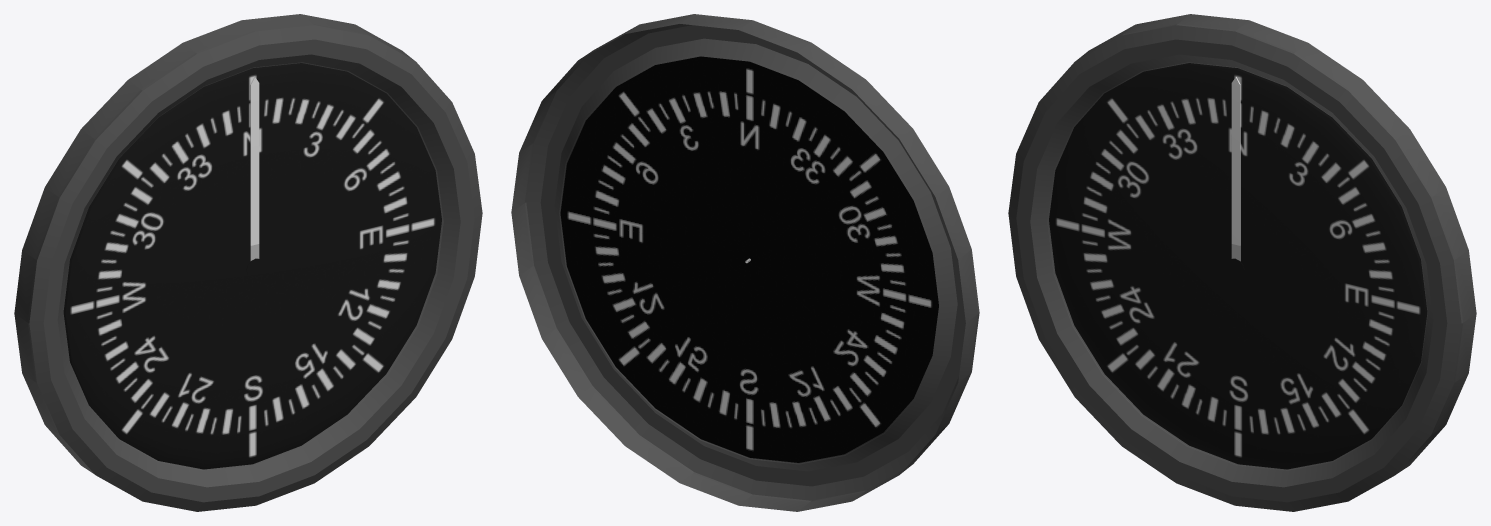
File: Gauge_Compass.obj
3 views of the same model, side by side, from view 1: azimuth 30°, elevation 25°; view 2: azimuth 150°, elevation 25°; view 3: azimuth 330°, elevation 25° (orthographic).
Visible parts, largest first — view 1: Face, Rim, NeedleMain; view 2: Face, Rim; view 3: Face, Rim, NeedleMain.
Part boxes in pixels (<box>): Face: <box>63,63,441,469</box>; Rim: <box>14,14,482,511</box>; NeedleMain: <box>250,77,259,245</box>; Face: <box>560,56,938,462</box>; Rim: <box>511,14,979,511</box>; Face: <box>1049,63,1427,469</box>; Rim: <box>1008,14,1476,511</box>; NeedleMain: <box>1231,77,1240,245</box>.
Bounding box in the file's own units: 0.0822 × 0.0822 × 0.00794.
